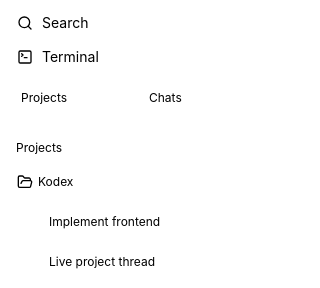
Test: MVP shell flows › inserts gateway-created project and chat threads from live upsert events
The image size is (320, 288).
Expected: the button "Live project thread" is shown, [48,253,228,271]
Click the button "Chats": [202, 98] box [139,86,265,110]
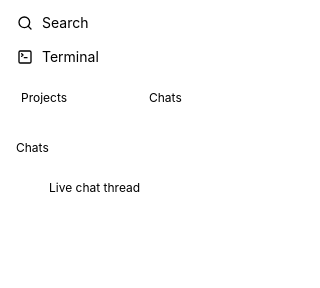
Now the button "Live chat thread" is shown, box [48,179,228,197]
